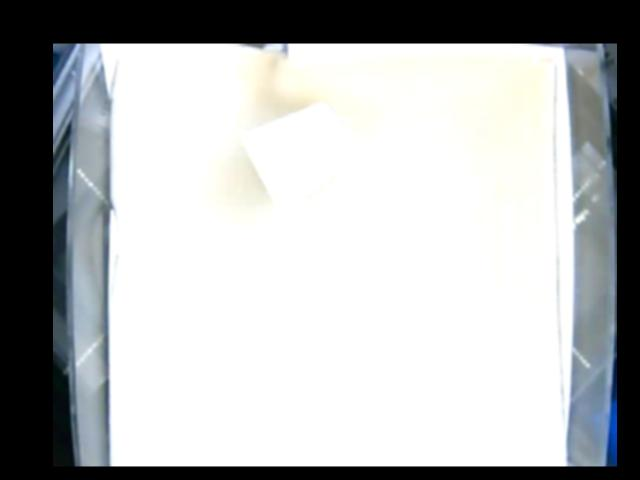Cup: (243, 101, 357, 213)
